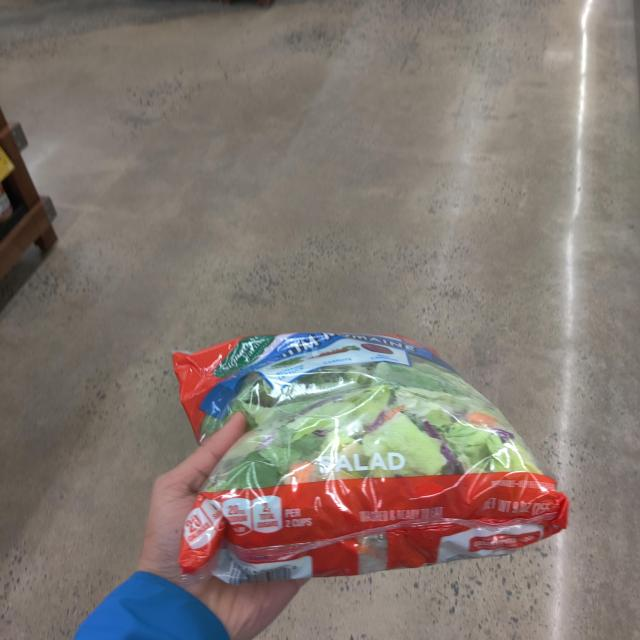Salad: (142, 314, 587, 596)
